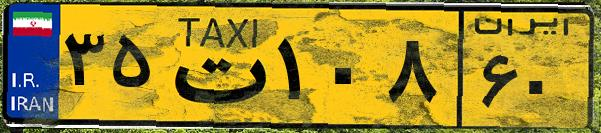0: (330, 28, 385, 110), (525, 38, 570, 115)
1: (270, 28, 330, 110)
3: (57, 26, 110, 100)
5: (110, 28, 158, 98)
6: (475, 38, 525, 113)
8: (385, 28, 445, 110)
ت: (158, 12, 270, 120)
